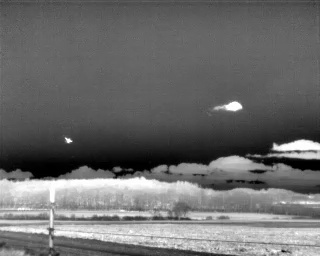DRONE: (61, 133, 76, 148)
